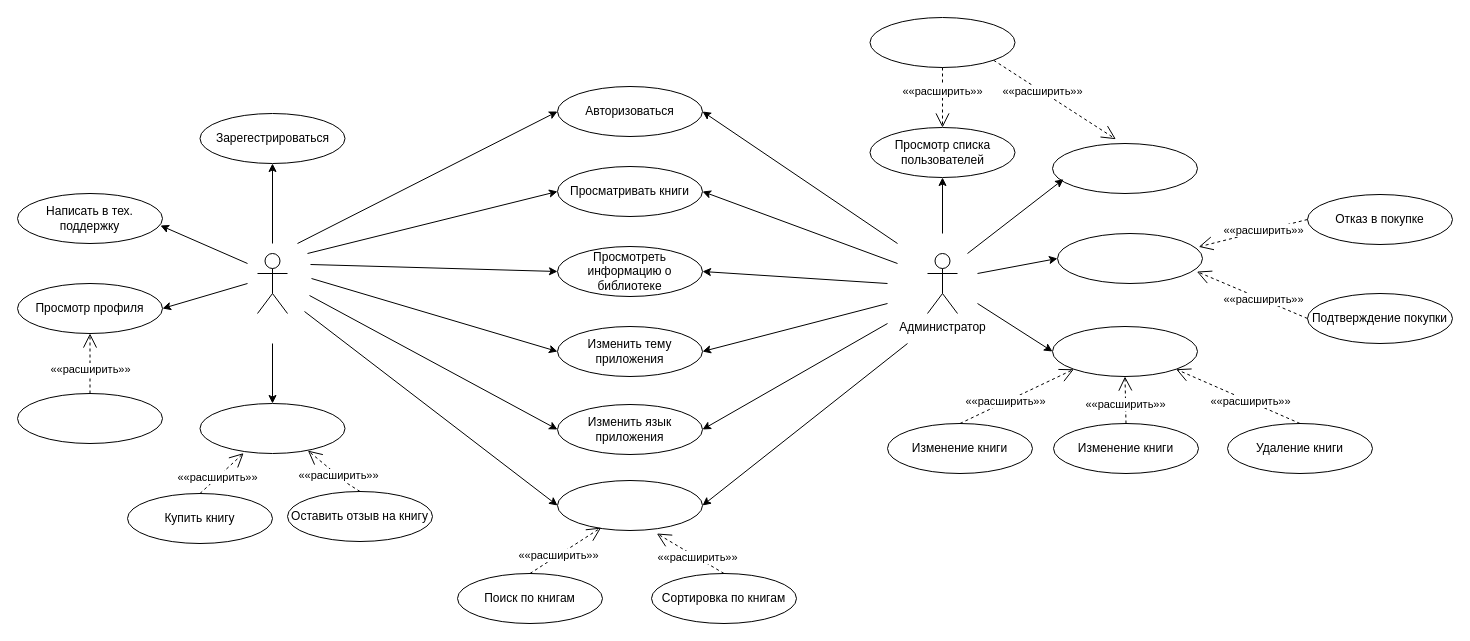
Some shapes in this 1470 by 641 pixel diagram are drawn without their labels. Each missing label, with the centre of its shape:
Выполнить фильтрацию книг: the point at 629,505
Изменение профиля: the point at 89,418
Отправить письмо на Email: the point at 942,42
Пользователь: the point at 272,283
Просмотр каталога книг: the point at 1125,351
Просмотр сообщений в поддержку: the point at 1125,168
Просмотр списка всех покупок: the point at 1129,258
Скачать книгу: the point at 272,428
